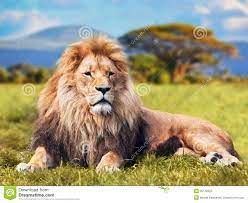lion: (20, 31, 240, 172)
